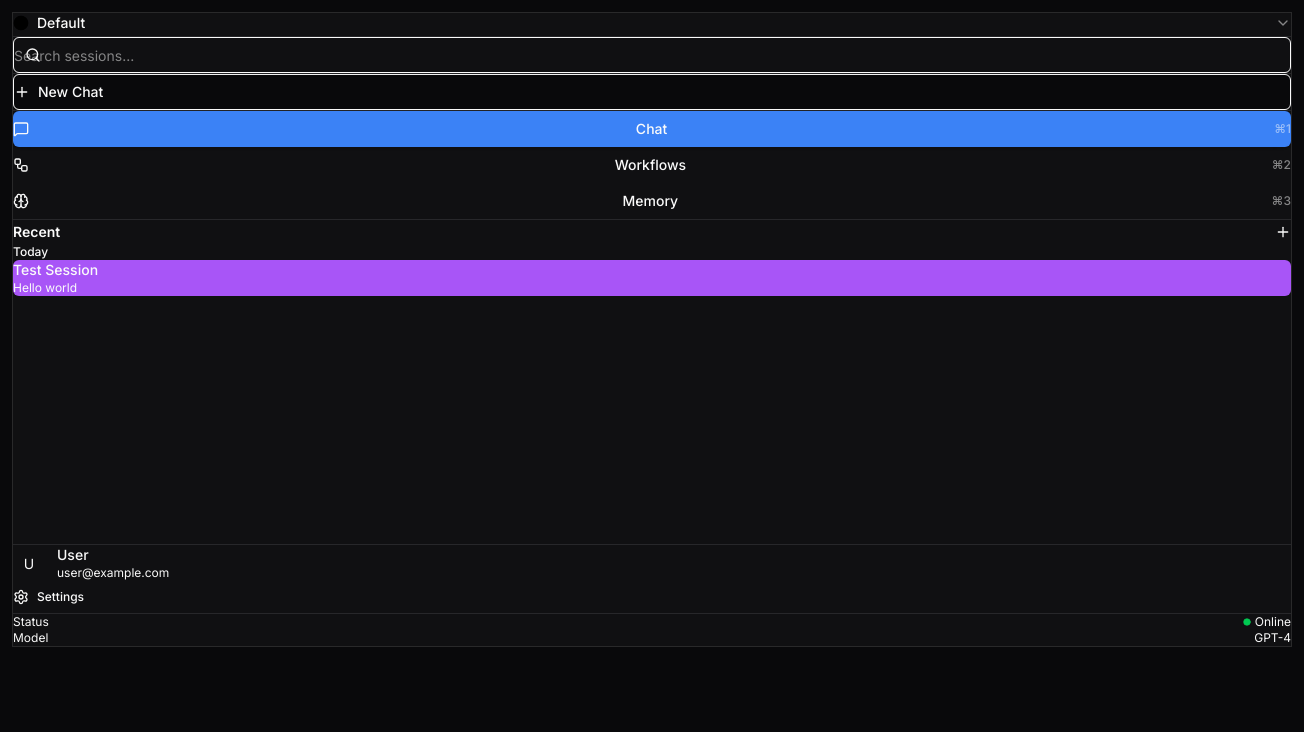
Sidebar › allows searching sessions
Step 1. Type "Test" into the field with placeholder "Search sessions..." → (652, 55), box [13,37,1291,73]
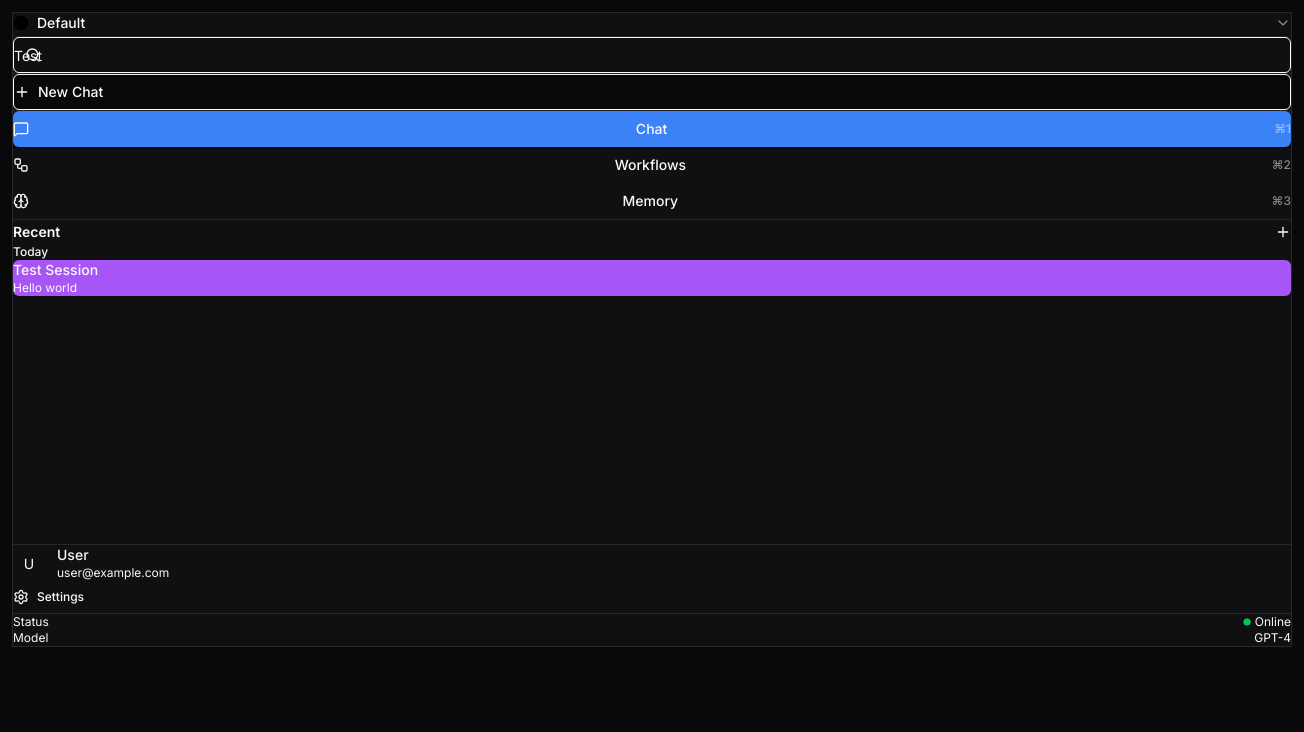
Expected: the text "Test Session" is shown, [13,261,98,278]
Step 2. Replace the text in the field with placeholder "Search sessions..." with "Nonexistent" → (652, 55), box [13,37,1291,73]
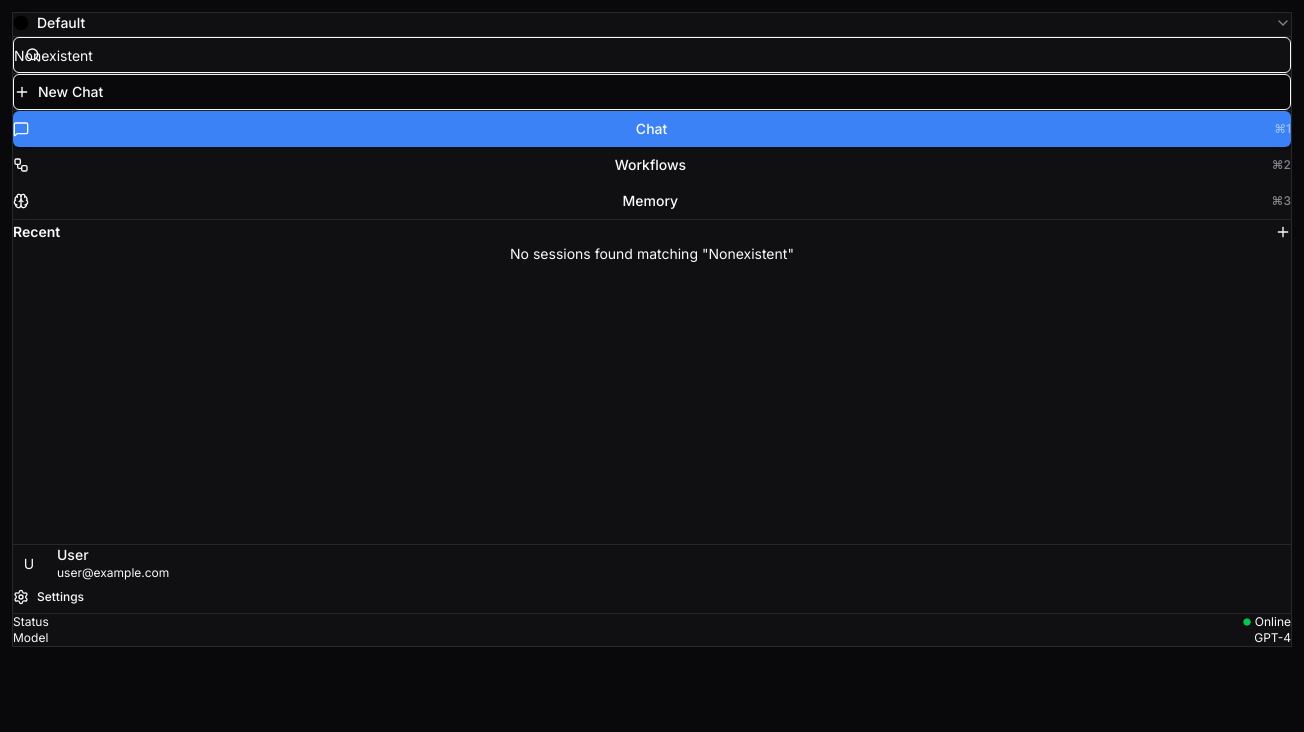
Expected: the text "Test Session" is gone
